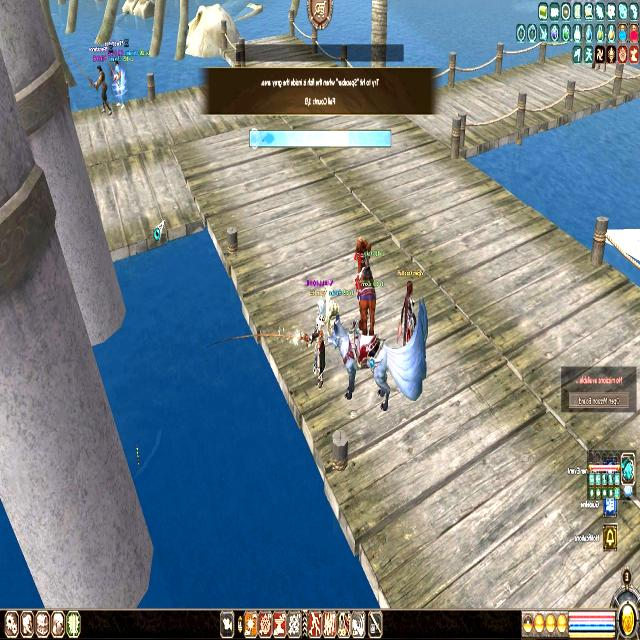box: (329, 130, 348, 150)
fishes: (256, 126, 278, 150)
